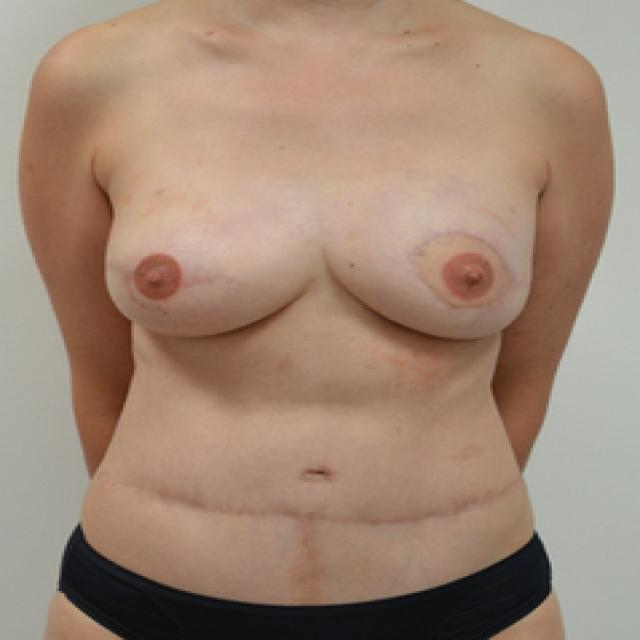Seno herido: (100, 181, 321, 360), (332, 183, 538, 358)
